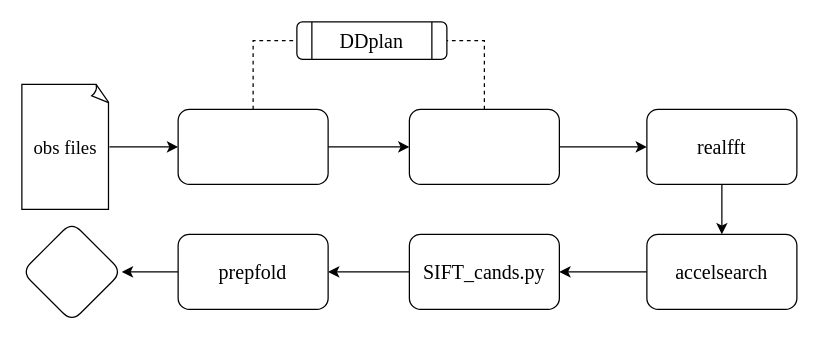
This 819x344 diagram has some shape labels left out. The shapes that lost their labels are listed below. From the top down, each one's box as (x1, y1, x2, y2) in pixels, then its label:
(177, 108, 328, 184): rfifind
(408, 108, 559, 184): prepsubband
(21, 221, 122, 322): getTOAs
